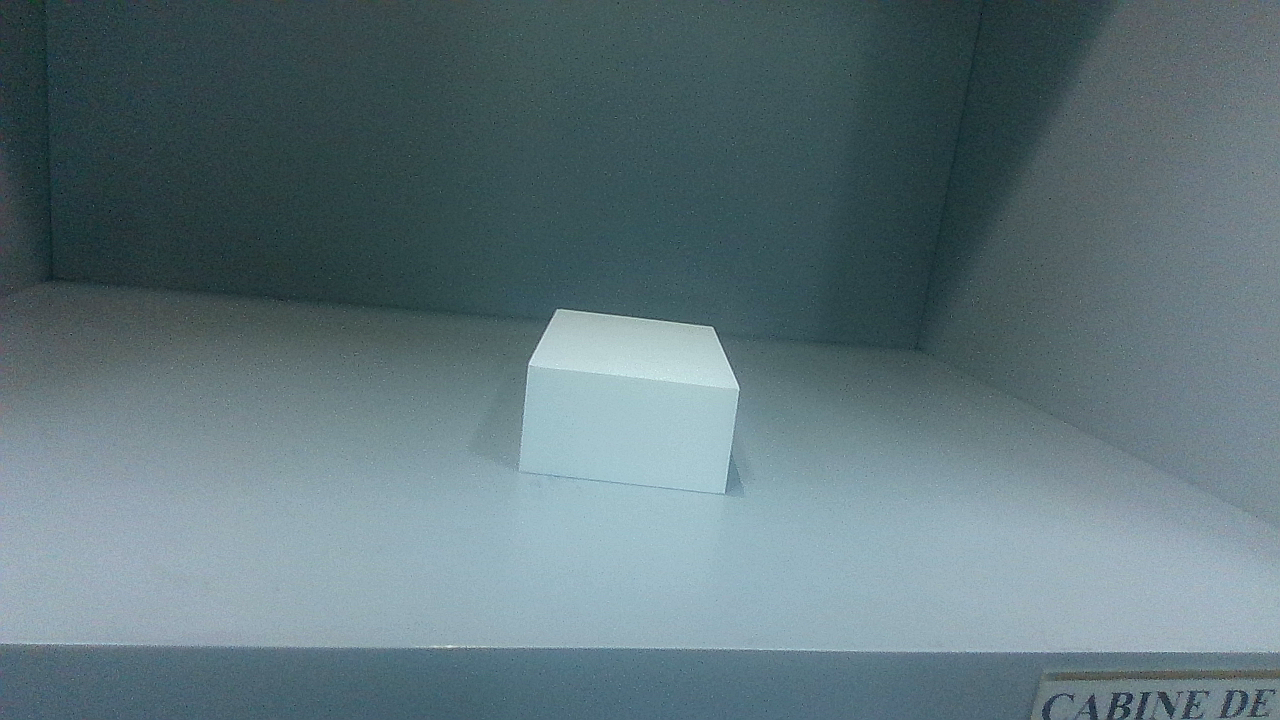Retangulo: (518, 309, 739, 493)
